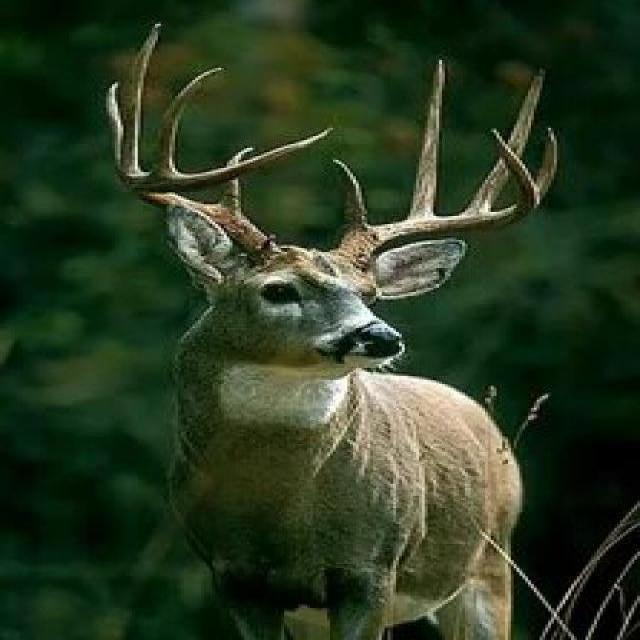deer: (0, 111, 640, 634)
